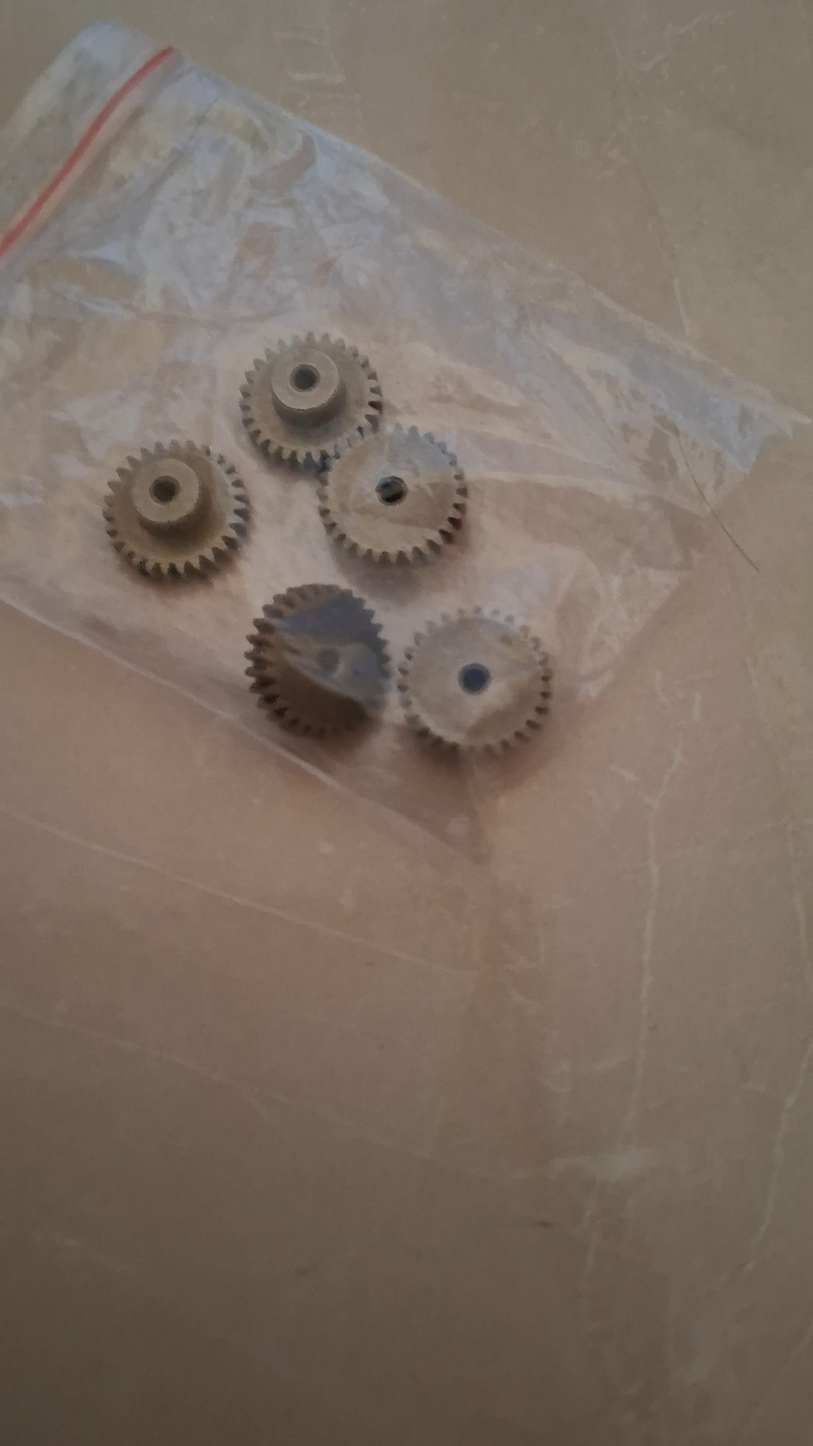spur gear: (246, 584, 389, 736), (398, 609, 551, 751), (320, 426, 466, 562), (103, 441, 248, 576), (241, 333, 382, 464)
